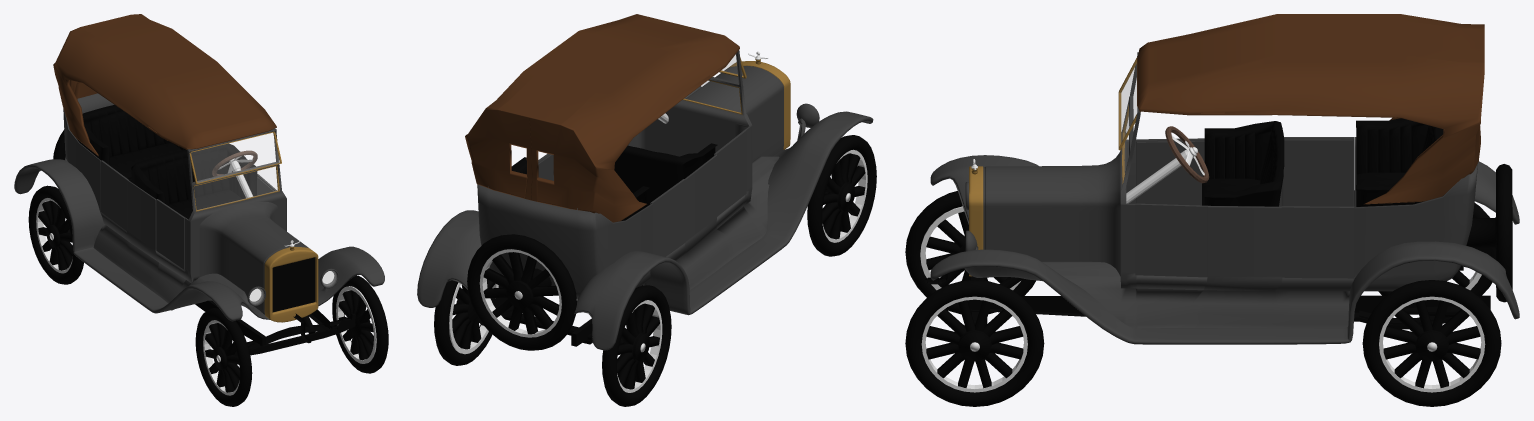
The model's file is ford_model_t_downloadable.glb.
The picture shows the model from 3 angles, left to right: view 1: azimuth 30°, elevation 25°; view 2: azimuth 150°, elevation 25°; view 3: azimuth 270°, elevation 25°; orthographic projection. The views are drawn at different scales.
Visible parts, largest first — view 1: roof, body, motor, chassis hipoly, front seat, wheel front.001, wheel front, rear seat, wheel back.001, windshield upper, windshield lower, frame (+4 smaller); view 2: roof, body, chassis hipoly, spare, wheel front.001, wheel back.001, motor, wheel back, front seat, door rear r, door front r, windshield lower (+2 smaller); view 3: roof, body, chassis hipoly, motor, wheel front, wheel back, front seat, door rear l, door front l, door rear r, rear seat, wheel front.001 (+7 smaller).
Boxes of the visible parts, x1,y1,x2,y2 form: roof: [53, 14, 276, 156]; body: [63, 93, 286, 310]; motor: [199, 202, 318, 343]; chassis hipoly: [14, 159, 384, 321]; front seat: [131, 143, 257, 219]; wheel front.001: [195, 308, 252, 406]; wheel front: [332, 275, 388, 373]; rear seat: [76, 105, 185, 181]; wheel back.001: [28, 185, 83, 284]; windshield upper: [189, 131, 281, 184]; windshield lower: [193, 165, 279, 211]; frame: [195, 300, 355, 355]; roof: [465, 14, 739, 222]; body: [477, 50, 779, 299]; chassis hipoly: [417, 86, 873, 350]; spare: [467, 234, 576, 350]; wheel front.001: [807, 135, 876, 256]; wheel back.001: [602, 285, 671, 406]; motor: [685, 51, 790, 161]; wheel back: [434, 279, 502, 365]; front seat: [614, 143, 717, 205]; door rear r: [650, 179, 685, 256]; door front r: [714, 130, 746, 216]; windshield lower: [682, 80, 742, 114]; roof: [1137, 14, 1484, 204]; body: [1042, 52, 1477, 328]; chassis hipoly: [930, 155, 1519, 344]; motor: [925, 151, 1120, 284]; wheel front: [905, 280, 1044, 406]; wheel back: [1362, 280, 1501, 406]; front seat: [1202, 121, 1284, 206]; door rear l: [1281, 206, 1354, 278]; door front l: [1135, 203, 1207, 277]; door rear r: [1281, 137, 1354, 206]; rear seat: [1356, 118, 1443, 206]; wheel front.001: [905, 191, 1036, 314].
Bounding box in the file's own units: 335 × 463 × 799.
